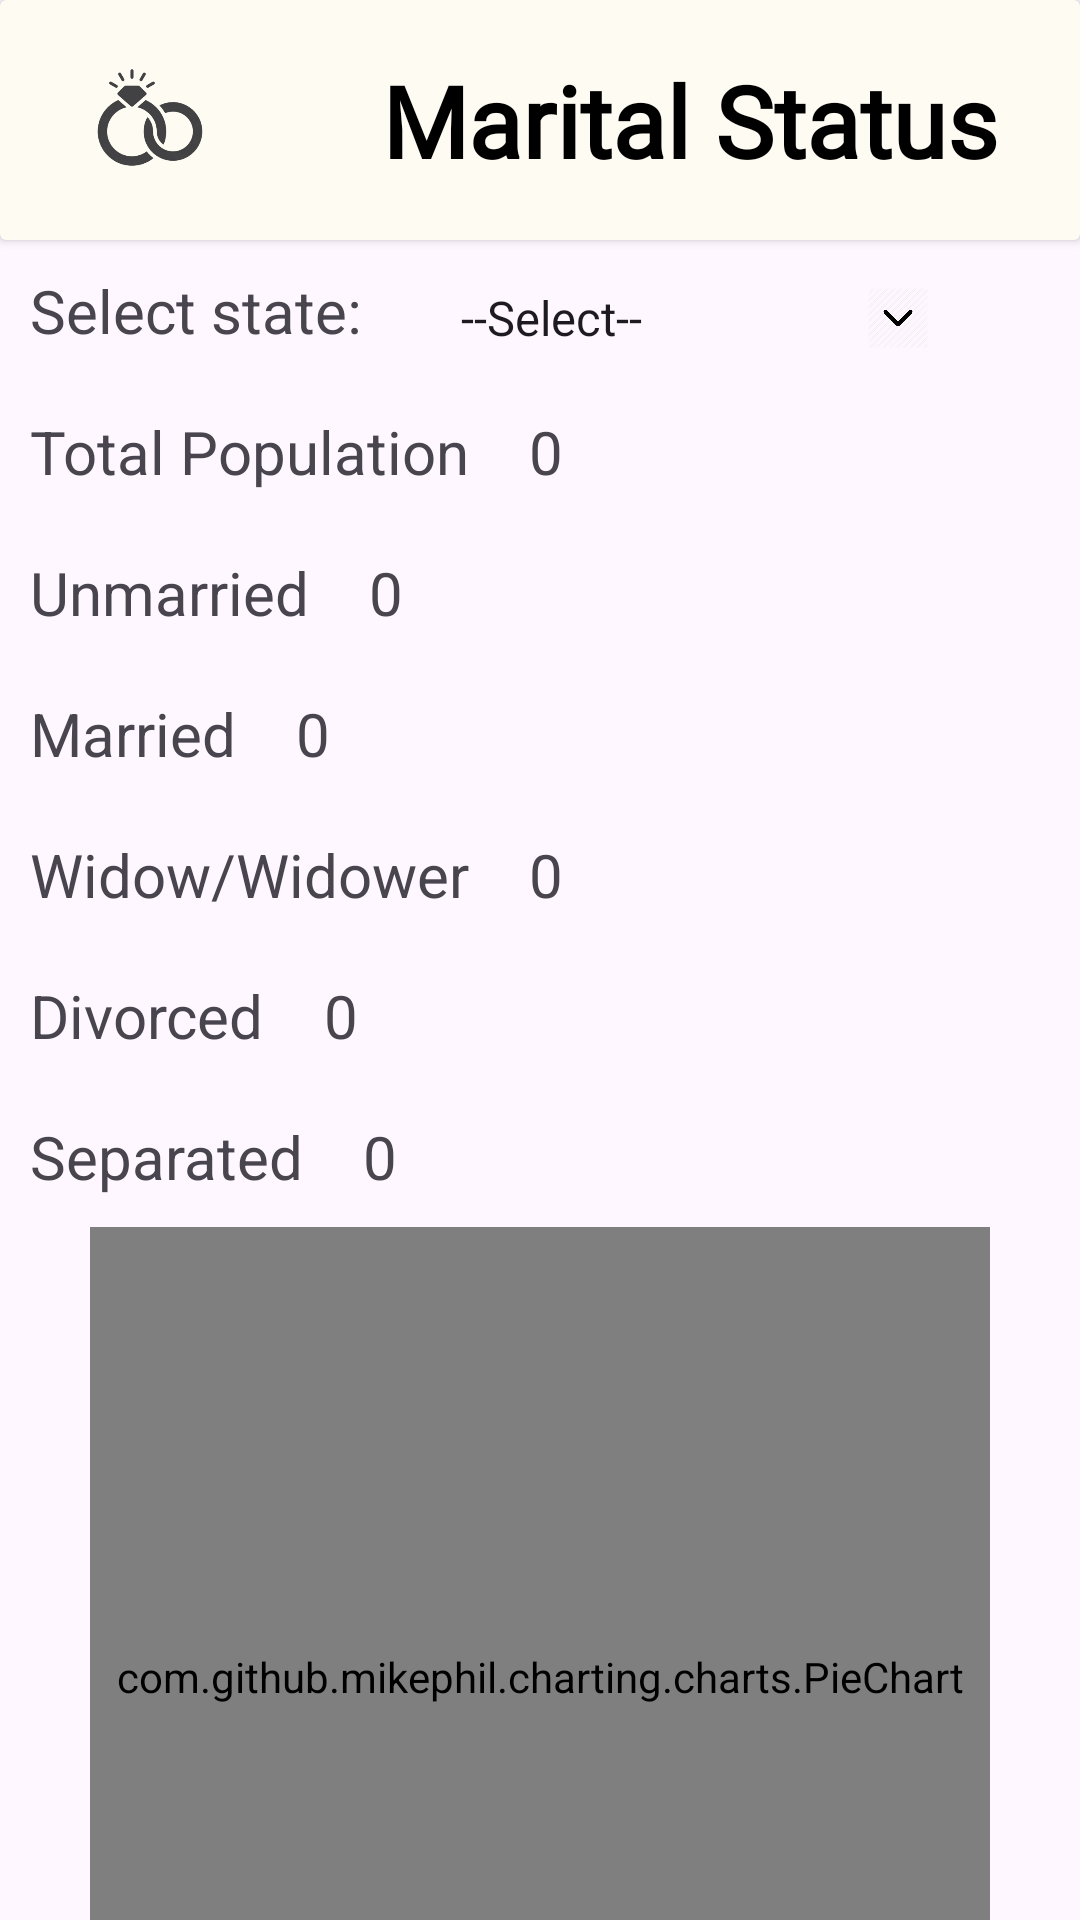

Where icons sit on this 1080px×1920px app screen, as (x1, y1, x2, y2):
drop down: (883, 310, 913, 326)
